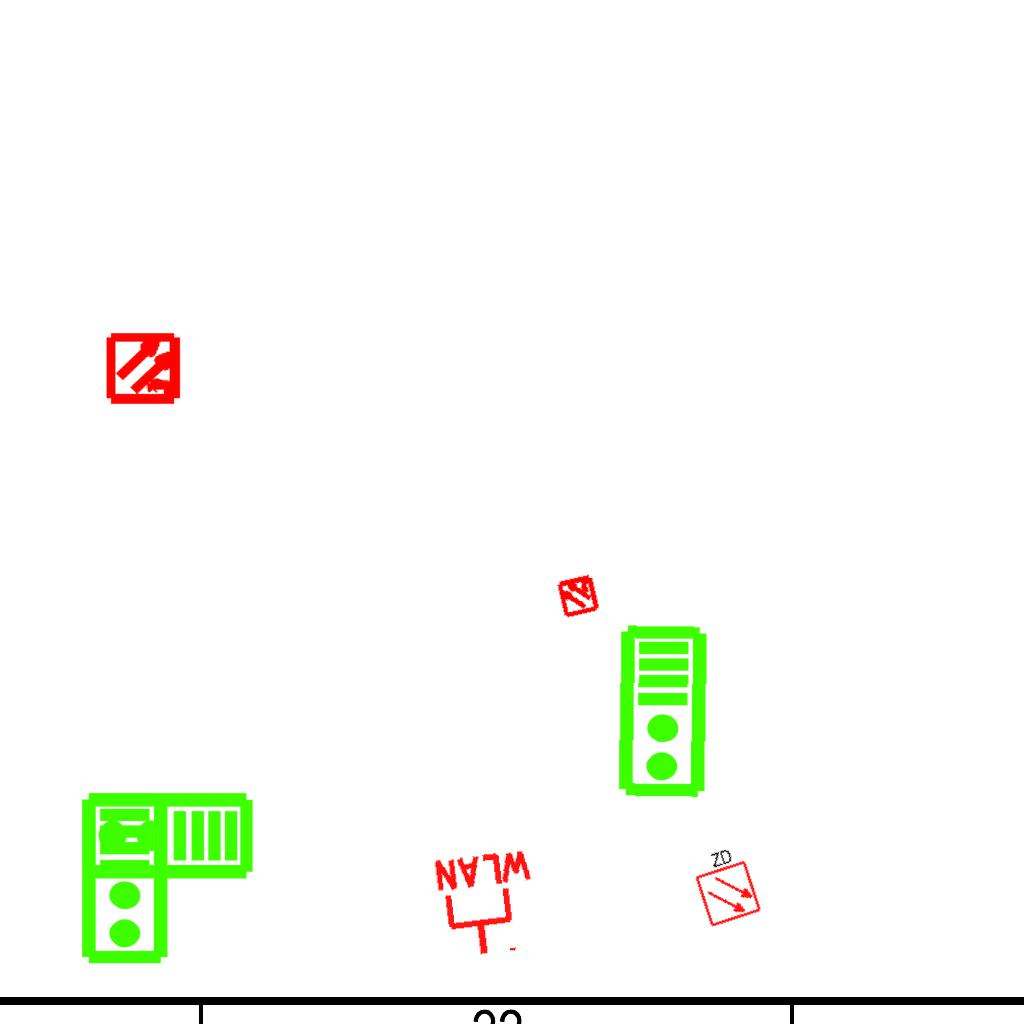Gegensprechanlage_mit_Video: (615, 623, 714, 801), (79, 790, 255, 885), (79, 791, 174, 967)
OT_Multisensormelder_(Kombination_RMO_WMD): (89, 312, 202, 425), (544, 561, 612, 629)
WLAN: (429, 846, 546, 964)
ZD_Melder_in_Zwischendecke_mit_Revisionsoeffnung_mind_40_x_40_cm: (685, 841, 764, 929)
